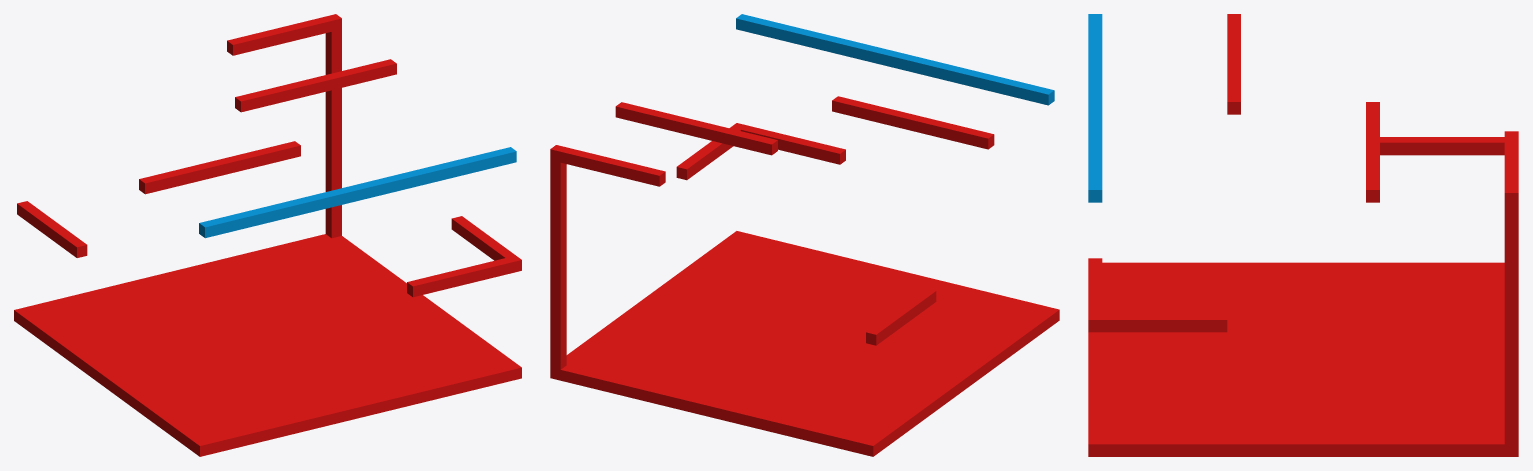
File: level_0_real.fbx
The picture shows the model from 3 angles, left to right: view 1: azimuth 30°, elevation 25°; view 2: azimuth 150°, elevation 25°; view 3: azimuth 270°, elevation 25°; orthographic projection. The views are drawn at different scales.
Visible parts, largest first — view 1: 立方体.005; view 2: 立方体.005; view 3: 立方体.005.
Part boxes in pixels (<box>): 立方体.005: <box>14,14,521,456</box>; 立方体.005: <box>550,14,1059,456</box>; 立方体.005: <box>1088,14,1518,456</box>.
Size of the model in its own units: 620 by 420 by 620.
